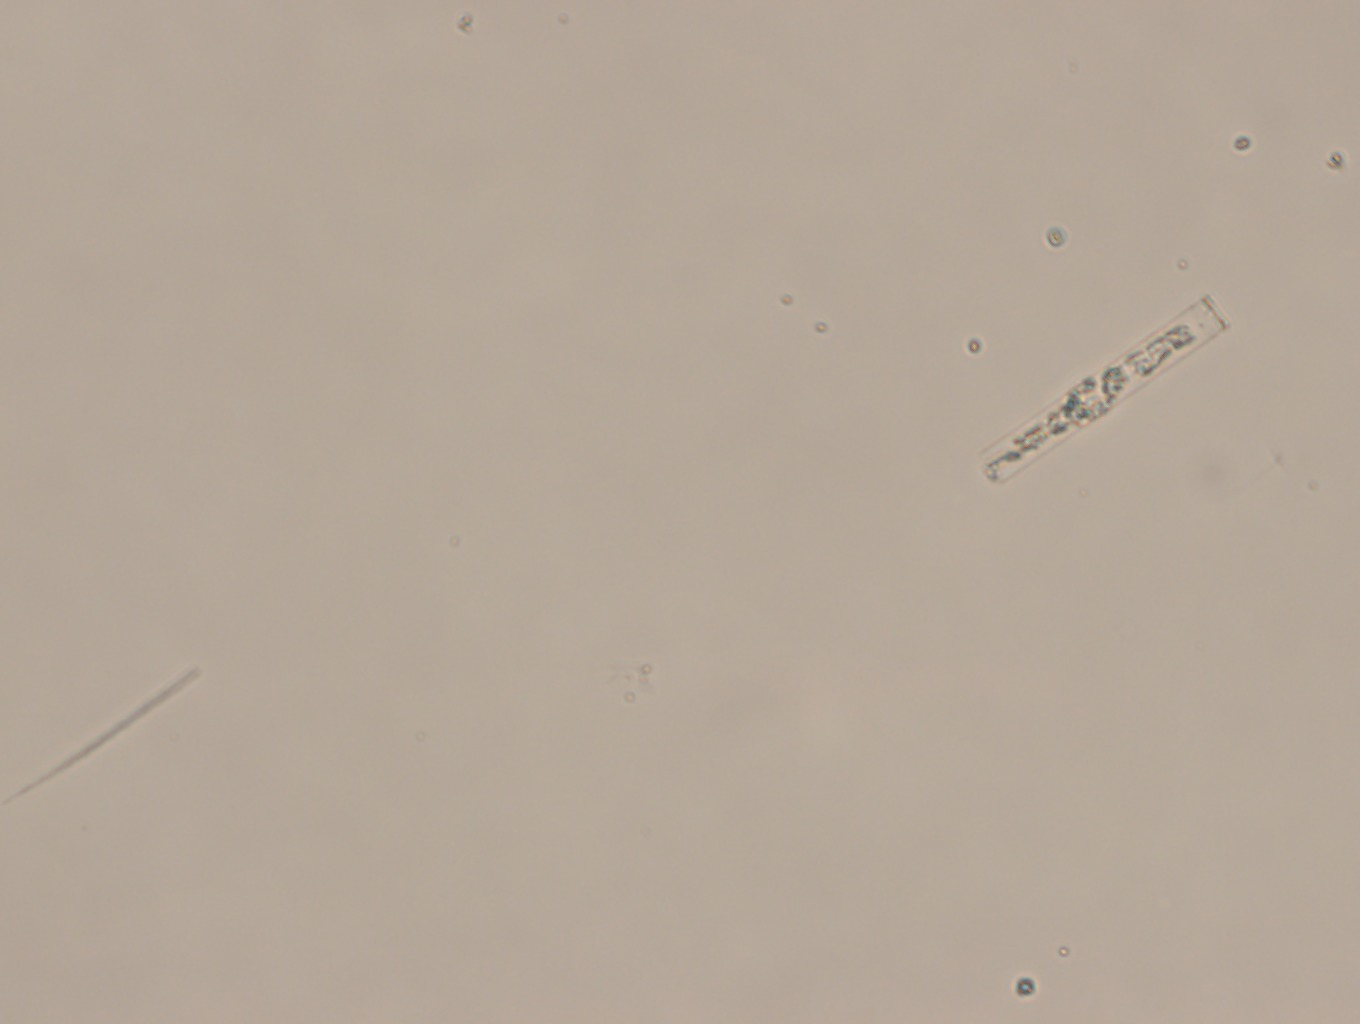guinardia flaccida: (962, 280, 1239, 490)
